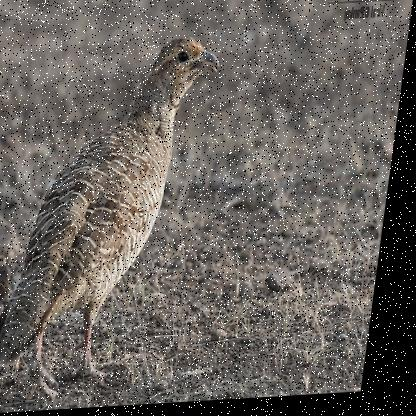Burung: (0, 36, 226, 402)
